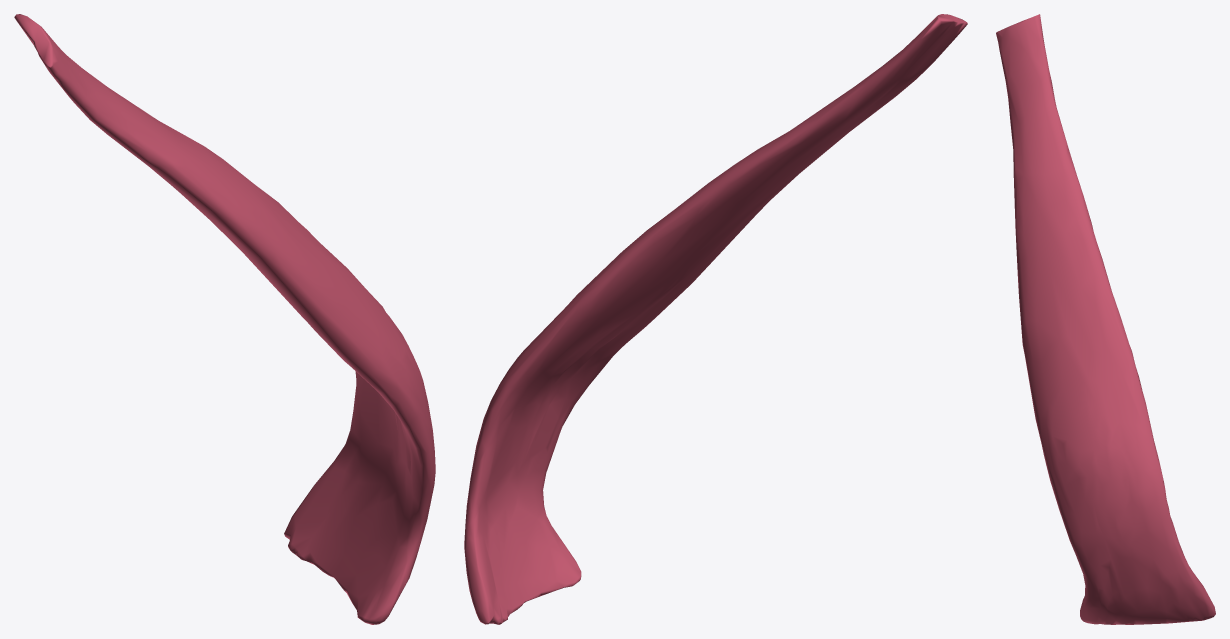
3 renders of one model, left to right at view 1: azimuth 30°, elevation 25°; view 2: azimuth 150°, elevation 25°; view 3: azimuth 270°, elevation 25°, orthographic. The views are drawn at different scales.
Parts seen in each view (by area): view 1: 左侧外直肌; view 2: 左侧外直肌; view 3: 左侧外直肌.
Boxes of the visible parts, box(x1,y1,x2,y2) form: 左侧外直肌: box(14, 14, 435, 624); 左侧外直肌: box(464, 14, 967, 624); 左侧外直肌: box(996, 14, 1215, 624).
Bounding box in the file's own units: 0.039 × 0.0586 × 0.0243.
